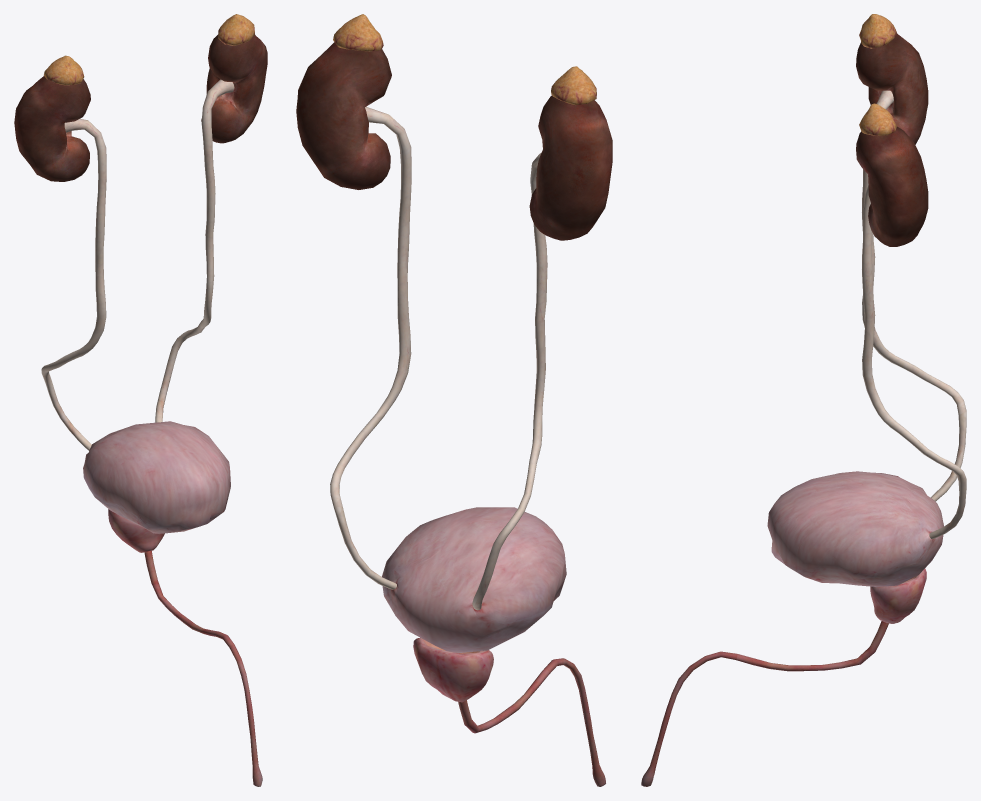
Rendered from Urinary_System_modified.FBX.
3 renders of one model, left to right at view 1: azimuth 30°, elevation 25°; view 2: azimuth 150°, elevation 25°; view 3: azimuth 270°, elevation 25°, orthographic. The views are drawn at different scales.
Parts seen in each view (by area): view 1: Bladder, Kidney_Right, Kidney_Left, Urinary_Ureter_Right, Urinary_Ureter_Left, Prostate_Uretra, Adrenal_Gland_Left, Adrenal_Gland_Right; view 2: Bladder, Kidney_Left, Kidney_Right, Urinary_Ureter_Left, Prostate_Uretra, Urinary_Ureter_Right, Adrenal_Gland_Left, Adrenal_Gland_Right; view 3: Bladder, Kidney_Left, Kidney_Right, Prostate_Uretra, Urinary_Ureter_Left, Urinary_Ureter_Right, Adrenal_Gland_Right, Adrenal_Gland_Left.
Boxes of the visible parts, x1,y1,x2,y2 form: Bladder: [83, 421, 230, 533]; Kidney_Right: [14, 76, 90, 181]; Kidney_Left: [201, 34, 267, 143]; Urinary_Ureter_Right: [41, 118, 106, 450]; Urinary_Ureter_Left: [155, 79, 234, 422]; Prostate_Uretra: [108, 509, 262, 786]; Adrenal_Gland_Left: [218, 14, 254, 45]; Adrenal_Gland_Right: [43, 55, 84, 85]; Bladder: [382, 507, 566, 652]; Kidney_Left: [296, 42, 391, 189]; Kidney_Right: [529, 95, 612, 240]; Urinary_Ureter_Left: [330, 107, 411, 589]; Prostate_Uretra: [413, 637, 605, 786]; Urinary_Ureter_Right: [472, 153, 547, 610]; Adrenal_Gland_Left: [333, 14, 383, 51]; Adrenal_Gland_Right: [551, 66, 596, 105]; Bladder: [767, 471, 943, 586]; Kidney_Left: [856, 126, 928, 246]; Kidney_Right: [856, 33, 928, 144]; Prostate_Uretra: [641, 568, 926, 786]; Urinary_Ureter_Left: [862, 185, 966, 539]; Urinary_Ureter_Right: [862, 90, 966, 501]; Adrenal_Gland_Right: [859, 14, 896, 48]; Adrenal_Gland_Left: [859, 103, 896, 135].
Bounding box in the file's own units: 3275 × 8530 × 3463.
